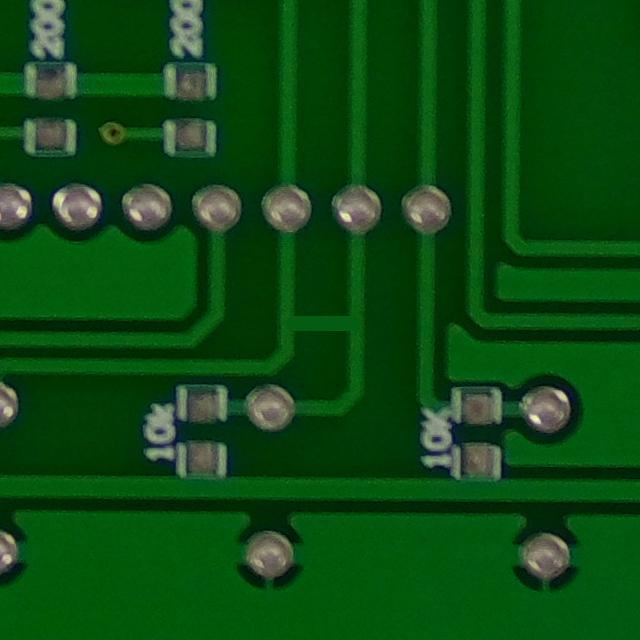short: (263, 287, 378, 354)
